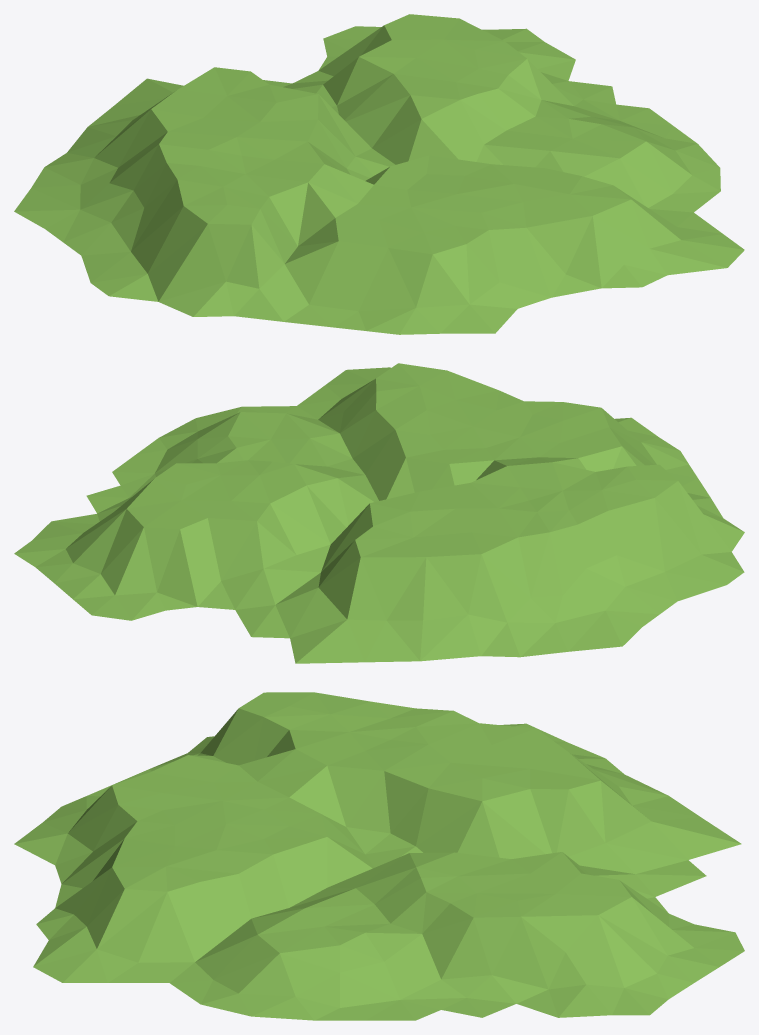
Rendered from MT_Mountain_M_b_18.fbx.
3 renders of one model, top to bottom at view 1: azimuth 30°, elevation 25°; view 2: azimuth 150°, elevation 25°; view 3: azimuth 270°, elevation 25°, orthographic. The views are drawn at different scales.
Parts seen in each view (by area): view 1: MT_Mountain_M_b_18; view 2: MT_Mountain_M_b_18; view 3: MT_Mountain_M_b_18.
Boxes of the visible parts, x1,y1,x2,y2 form: MT_Mountain_M_b_18: (14,14,744,334); MT_Mountain_M_b_18: (14,363,744,663); MT_Mountain_M_b_18: (14,692,744,1020).
Bounding box in the file's own units: 4453 × 470 × 4512.
